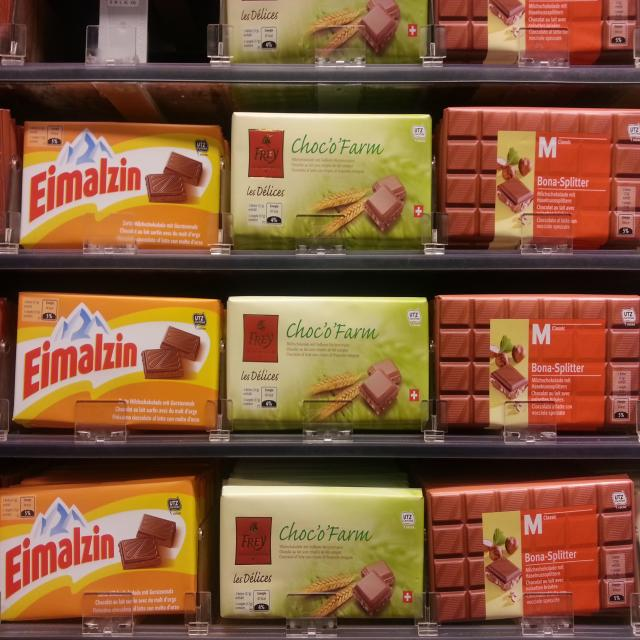chocolate: (442, 103, 640, 257), (428, 482, 637, 626), (224, 480, 423, 626), (15, 291, 215, 434), (26, 119, 223, 259), (229, 290, 428, 428), (3, 483, 199, 621), (436, 296, 640, 427), (232, 115, 432, 246), (226, 0, 427, 66), (438, 0, 634, 58)
